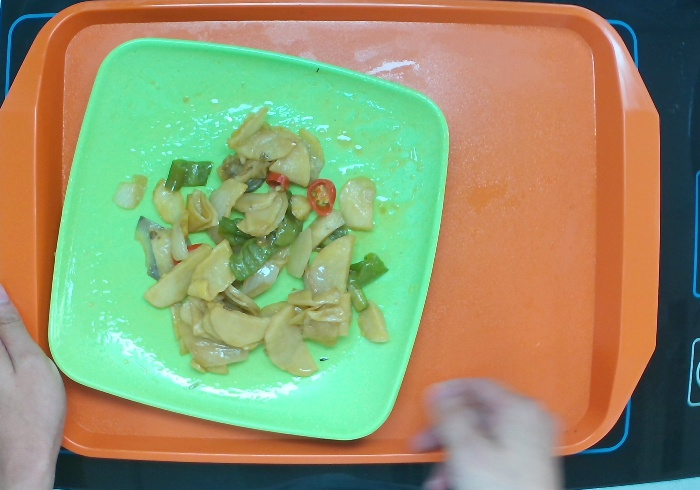ZNLD-Lv_Fang_Pan: (46, 36, 450, 442)
